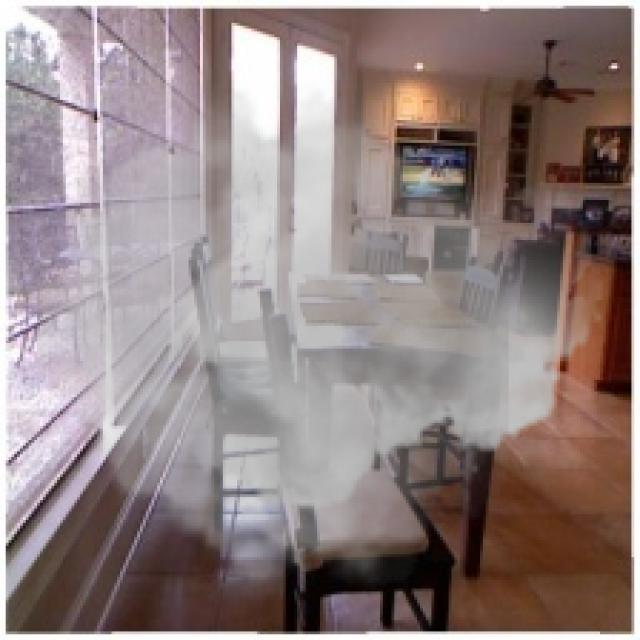Smoke: (37, 80, 603, 606)
